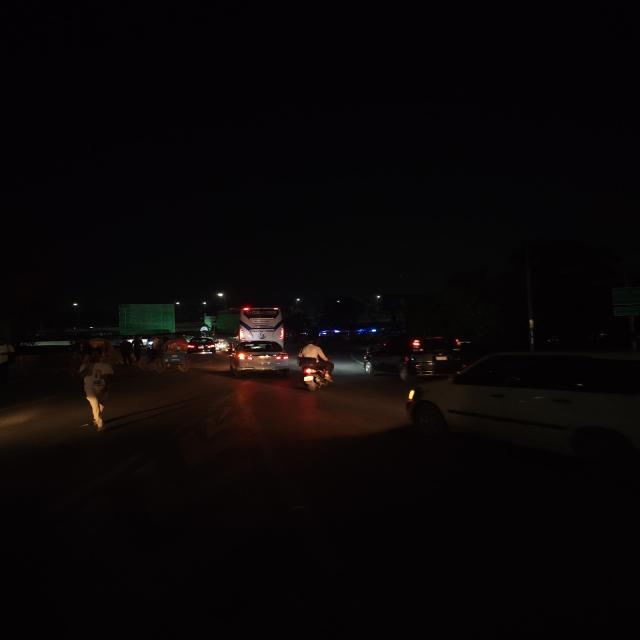bus: (235, 305, 289, 342)
car: (356, 333, 474, 380), (225, 339, 290, 377), (186, 336, 217, 356)
motorcycle: (294, 339, 339, 393)
pedestrian: (74, 343, 117, 433), (115, 338, 136, 366)
rickshaw: (139, 337, 192, 375)
